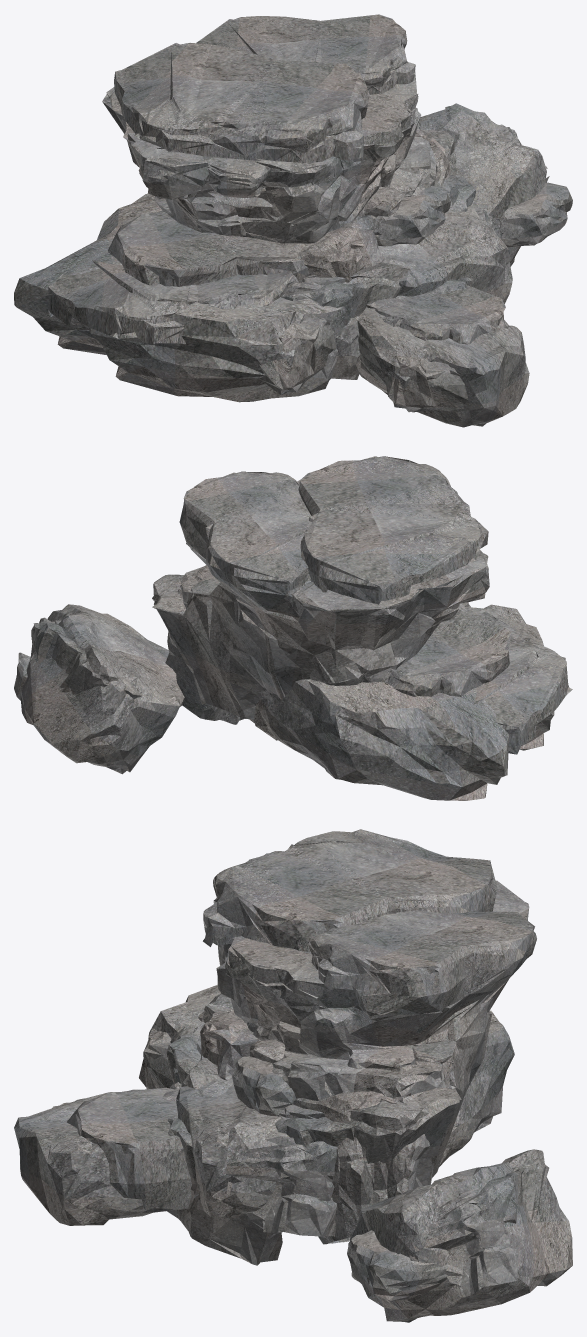
The model's file is stone.fbx.
3 renders of one model, top to bottom at view 1: azimuth 30°, elevation 25°; view 2: azimuth 150°, elevation 25°; view 3: azimuth 270°, elevation 25°, orthographic. The views are drawn at different scales.
Parts seen in each view (by area): view 1: 石头004ok; view 2: 石头004ok; view 3: 石头004ok.
Boxes of the visible parts, x1=… form: 石头004ok: x1=14, y1=14, x2=572, y2=427; 石头004ok: x1=14, y1=456, x2=572, y2=800; 石头004ok: x1=14, y1=829, x2=572, y2=1322.
Bounding box in the file's own units: 117 × 64.43 × 99.74.
Materials: 1 (1 with a texture image).
